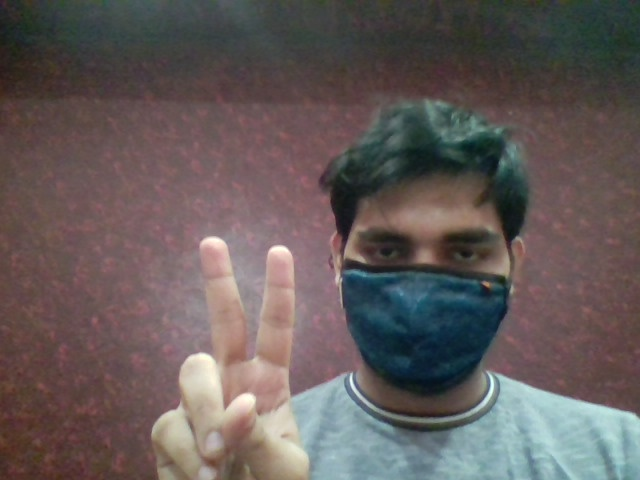k: (140, 226, 315, 480)
